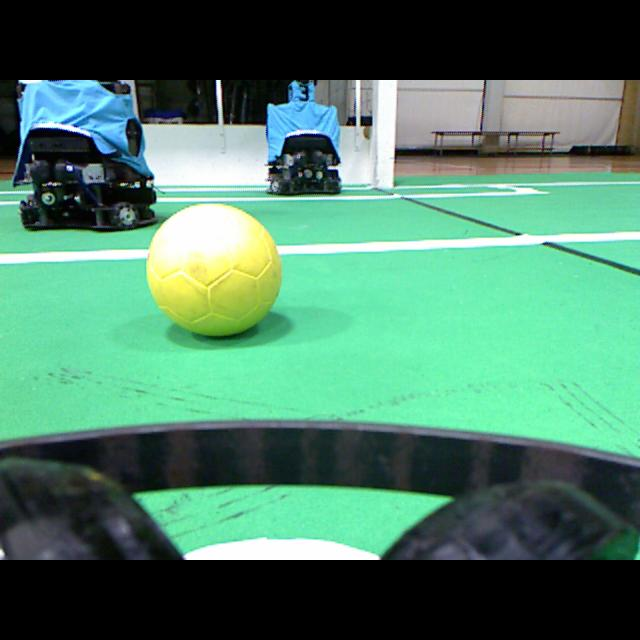ball: (147, 204, 281, 335)
goal: (373, 80, 396, 187)
